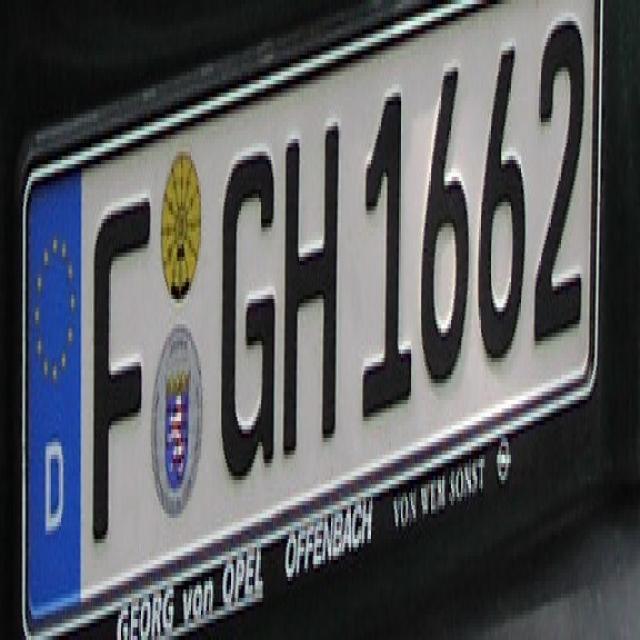1: (360, 88, 411, 426)
2: (534, 12, 586, 358)
6: (419, 59, 469, 388), (476, 34, 526, 362)
F: (91, 189, 152, 552)
G: (218, 143, 279, 493)
H: (281, 122, 339, 463)
